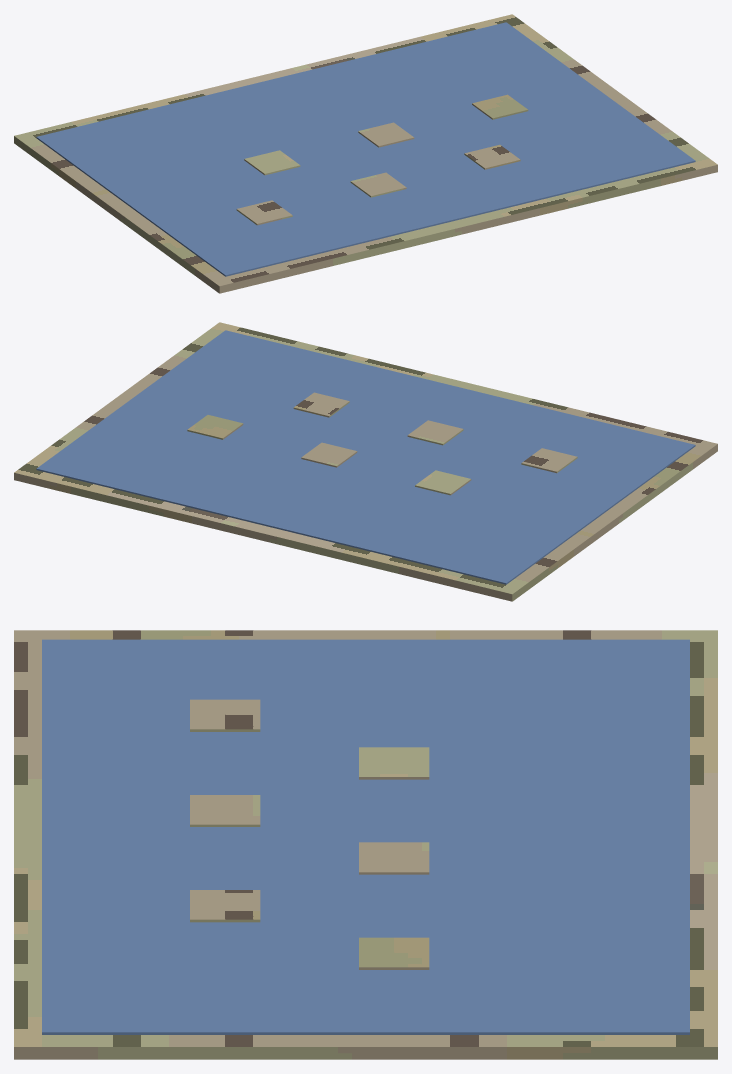
The model's file is plans.glb.
3 views of the same model, one above another, from view 1: azimuth 30°, elevation 25°; view 2: azimuth 150°, elevation 25°; view 3: azimuth 270°, elevation 25° (orthographic). The views are drawn at different scales.
Visible parts, largest first — view 1: flat, paper; view 2: flat, paper; view 3: flat, paper.
Boxes of the visible parts, x1,y1,x2,y2 form: flat: [36, 22, 695, 276]; paper: [14, 14, 717, 293]; flat: [36, 330, 695, 584]; paper: [14, 322, 717, 601]; flat: [42, 639, 689, 1034]; paper: [14, 630, 717, 1059].
Bounding box in the file's own units: 0.7 × 0.014 × 0.5.
2 materials, 1 textured.
